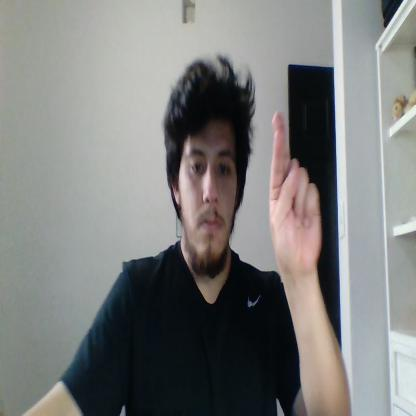R: (270, 109, 322, 271)
